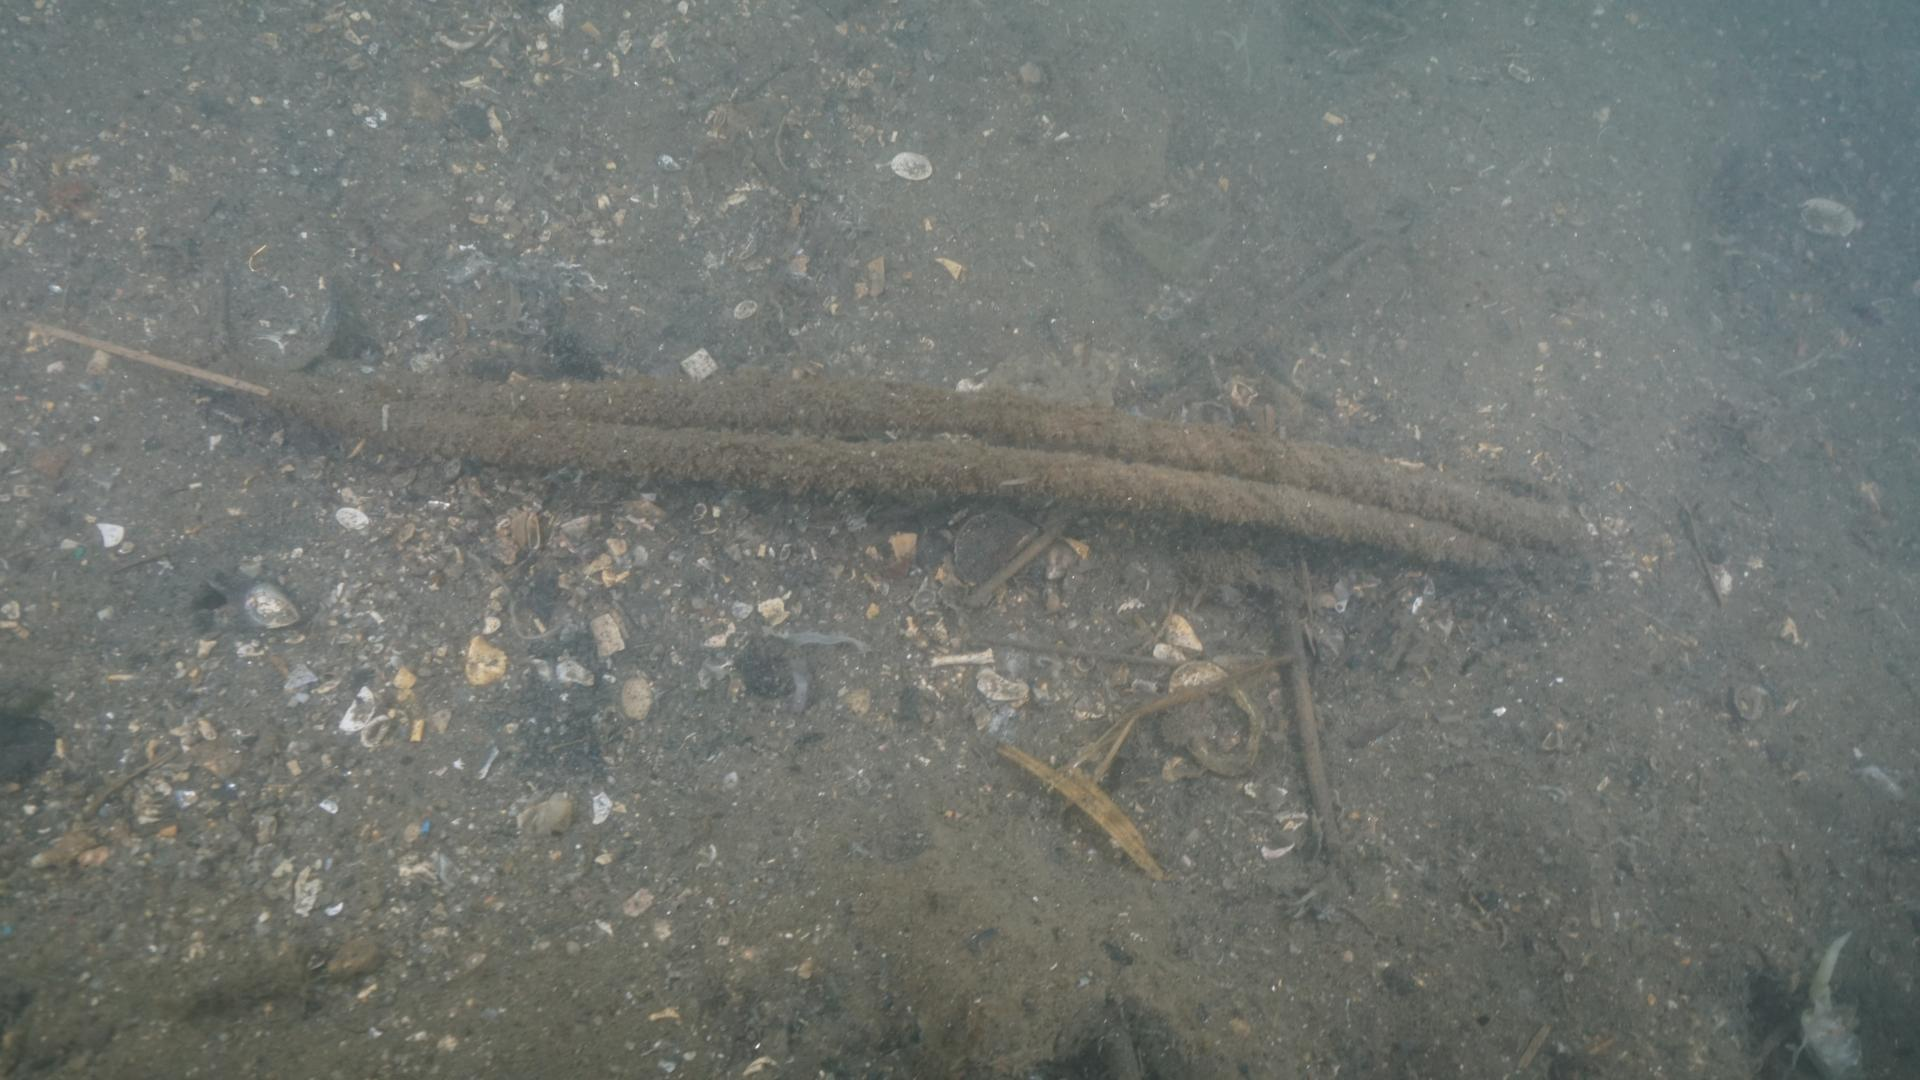rope: (264, 363, 1596, 589)
